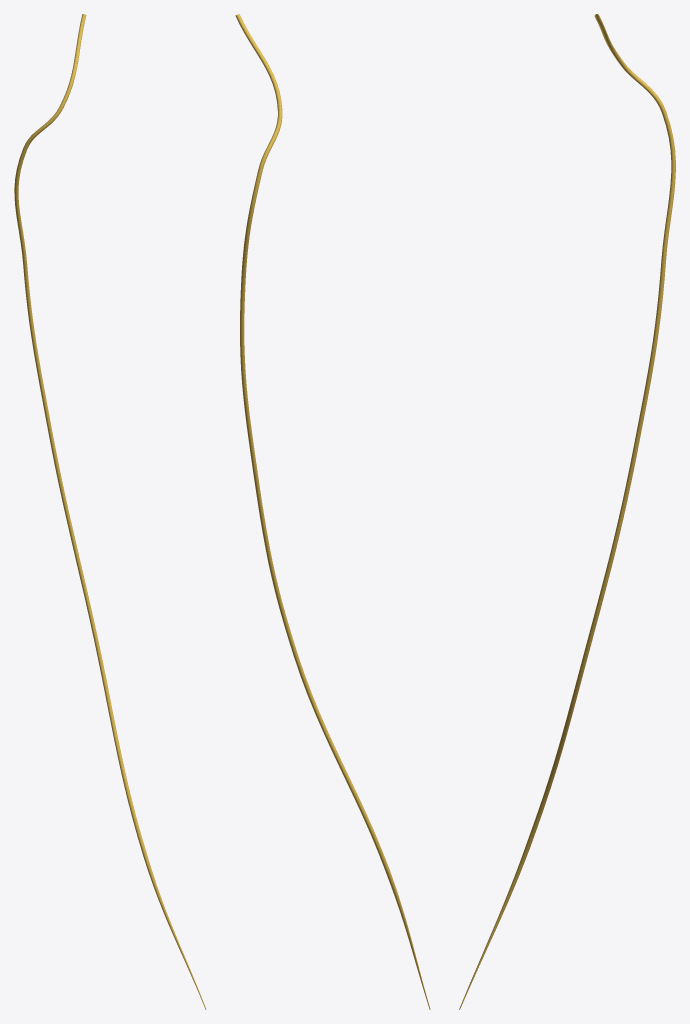
The model's file is Deep_branch_radial_nerve_right.glb.
3 views of the same model, side by side, from view 1: azimuth 90°, elevation 25°; view 2: azimuth 150°, elevation 25°; view 3: azimuth 270°, elevation 25° (orthographic). The views are drawn at different scales.
Visible parts, largest first — view 1: Deep_branch_of_radial_nerve.r_BezierCurve.537; view 2: Deep_branch_of_radial_nerve.r_BezierCurve.537; view 3: Deep_branch_of_radial_nerve.r_BezierCurve.537.
Part boxes in pixels (x1=…): Deep_branch_of_radial_nerve.r_BezierCurve.537: x1=14, y1=14, x2=206, y2=1009; Deep_branch_of_radial_nerve.r_BezierCurve.537: x1=235, y1=14, x2=430, y2=1009; Deep_branch_of_radial_nerve.r_BezierCurve.537: x1=459, y1=14, x2=675, y2=1009.
Size of the model in its own units: 0.0328 by 0.2465 by 0.0457.
